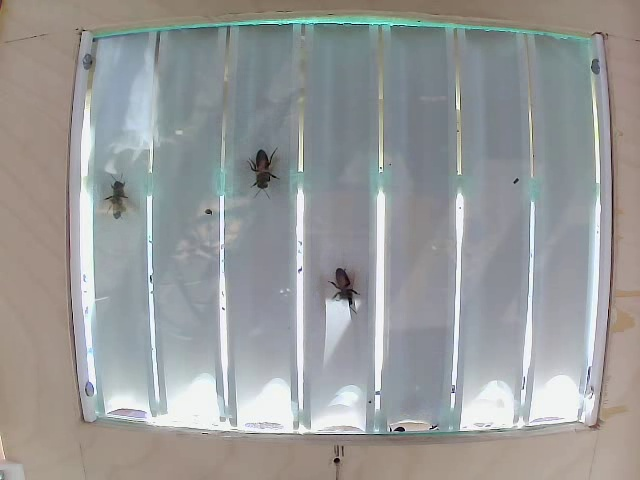bee: (316, 244, 368, 327), (235, 142, 287, 208), (103, 165, 133, 230)
